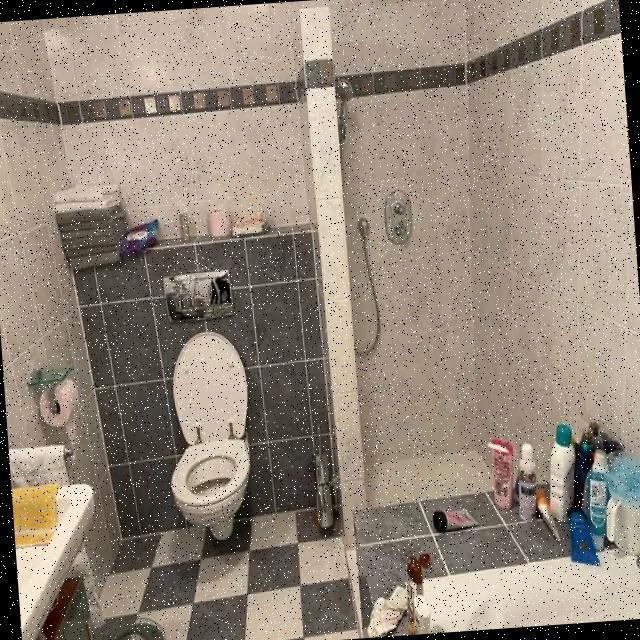bath: (362, 541, 640, 637)
douche: (292, 0, 528, 541)
toilet: (153, 254, 261, 559)
wastafel: (10, 473, 110, 640)
